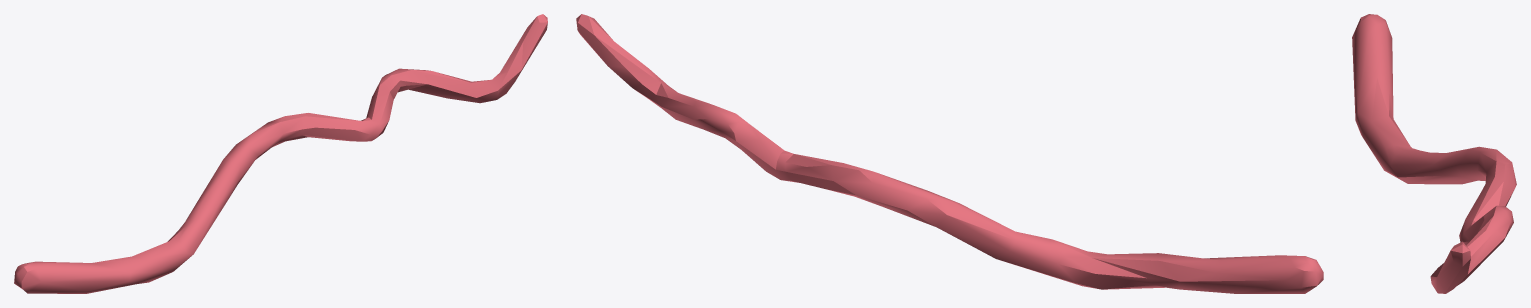
File: fma4712_fj2706.glb
3 renders of one model, left to right at view 1: azimuth 30°, elevation 25°; view 2: azimuth 150°, elevation 25°; view 3: azimuth 270°, elevation 25°, orthographic. The views are drawn at different scales.
Visible parts, largest first — view 1: FMA4712_FJ2706; view 2: FMA4712_FJ2706; view 3: FMA4712_FJ2706.
Part boxes in pixels (x1,y1,x2,y2): FMA4712_FJ2706: (14, 14, 547, 293); FMA4712_FJ2706: (576, 14, 1323, 293); FMA4712_FJ2706: (1352, 14, 1516, 293).
Size of the model in its own units: 0.0196 by 0.00471 by 0.00387.
